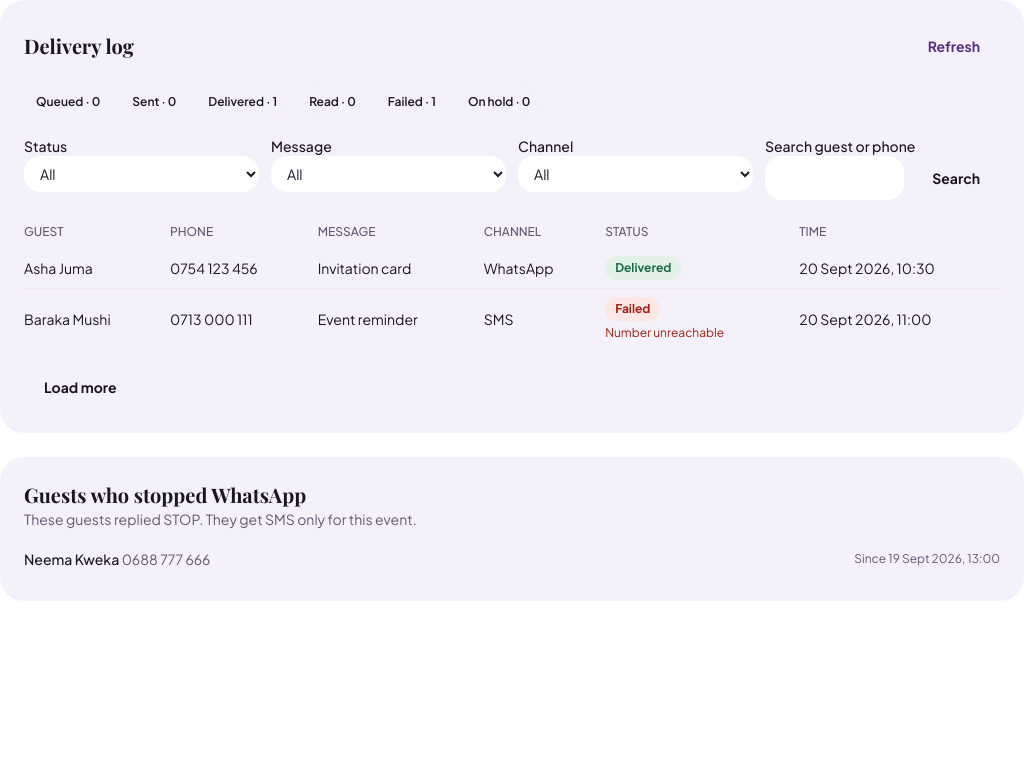
Test: MessageLog › loads more with the opaque nextBefore cursor
Click the button "Load more". click: x=80, y=387
box: [24,365,137,409]
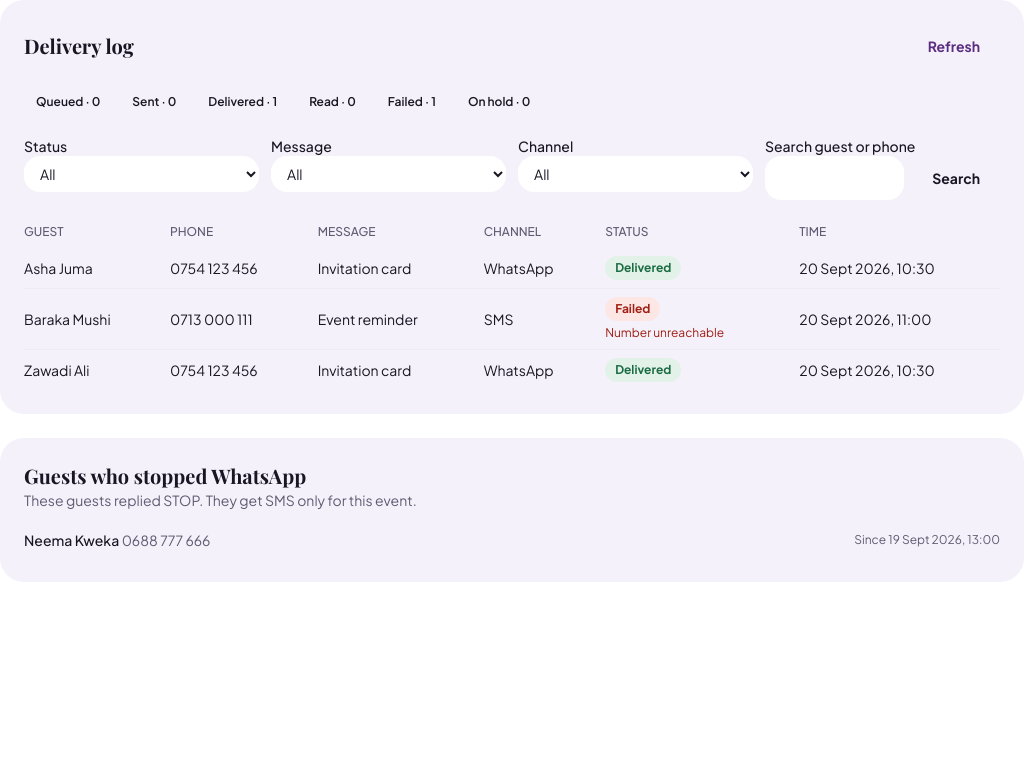
Expected: the row with test id "log-row-m1" is shown, [24,248,1000,288]
Now the row with test id "log-row-m3" is shown, box [24,350,1000,390]
Now the button "Load more" is gone
